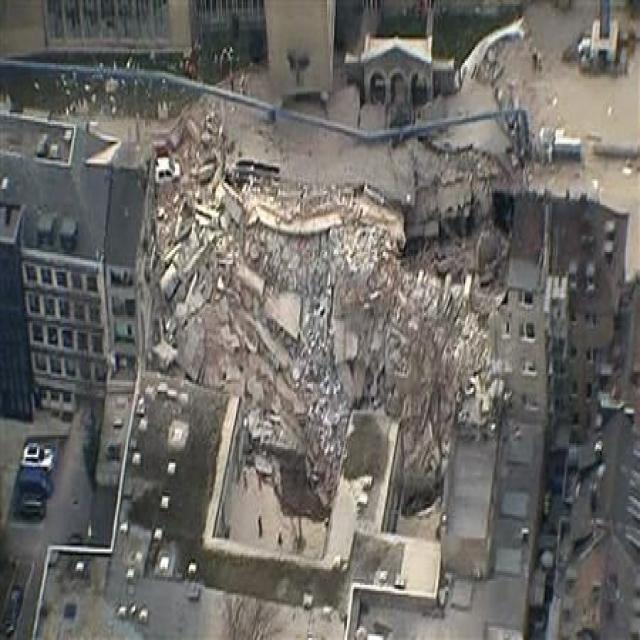collapsed_building: (155, 146, 474, 559)
